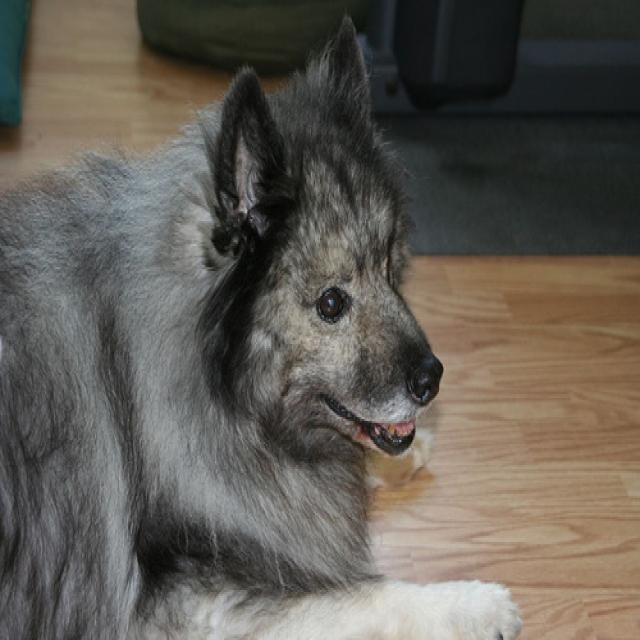dog-keeshond: (1, 10, 535, 636)
